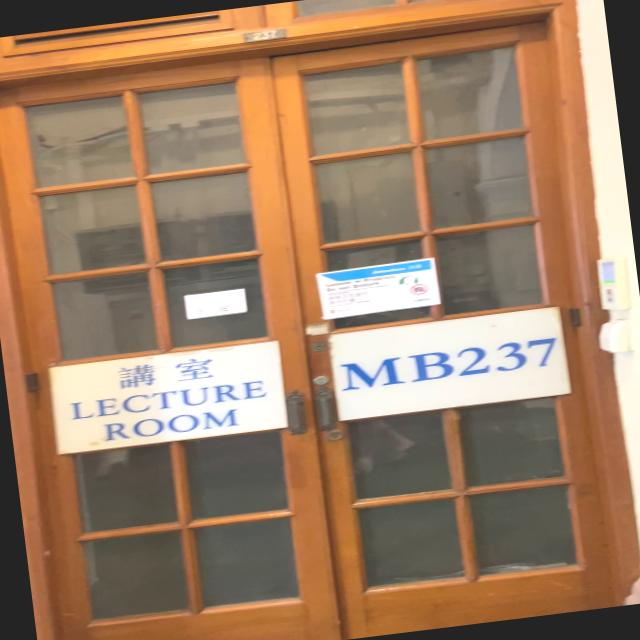room237: (238, 26, 290, 45)
room237Window: (338, 329, 566, 402)
